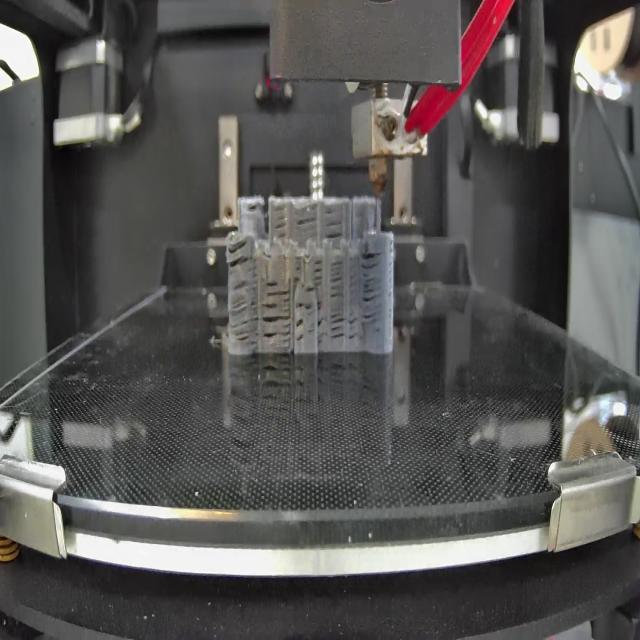cracks: (228, 281, 258, 345), (362, 252, 382, 328), (262, 298, 291, 346), (330, 313, 360, 342), (227, 240, 253, 270), (323, 208, 345, 240), (330, 256, 344, 300), (266, 275, 290, 299), (274, 207, 288, 240), (294, 211, 318, 229), (316, 299, 326, 342), (314, 253, 324, 286), (293, 252, 303, 283), (296, 298, 316, 312), (296, 318, 305, 346), (305, 282, 316, 296)
